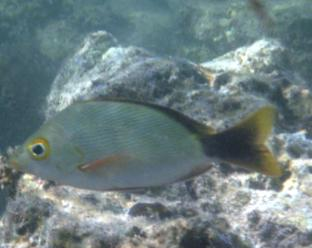Lutjanidae -Snappers-: (0, 93, 290, 196)
